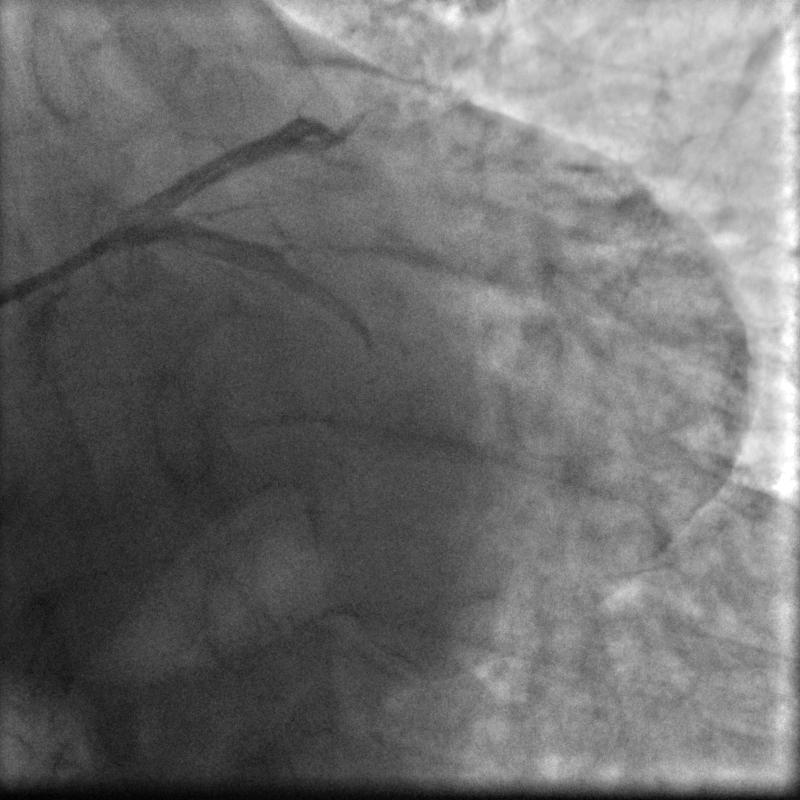Stenosis: (355, 314, 377, 346)
